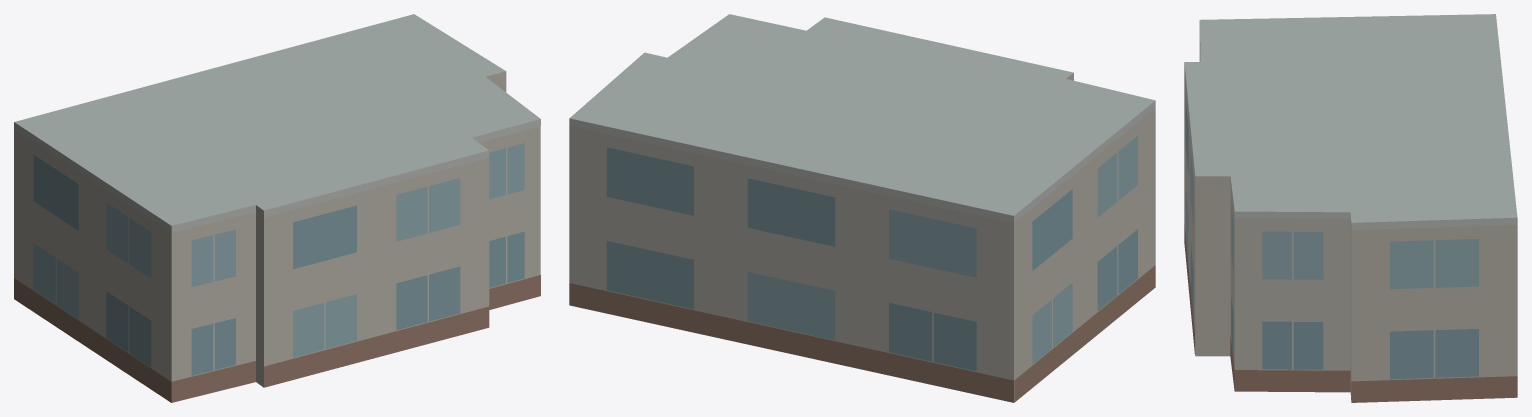
The model's file is survey-upis-32581197.glb.
3 views of the same model, side by side, from view 1: azimuth 30°, elevation 25°; view 2: azimuth 150°, elevation 25°; view 3: azimuth 270°, elevation 25° (orthographic). The views are drawn at different scales.
Parts seen in each view (by area): view 1: survey-upis-32581197.tmp; view 2: survey-upis-32581197.tmp; view 3: survey-upis-32581197.tmp.
Part boxes in pixels (bbox=[...]): survey-upis-32581197.tmp: bbox=[14, 14, 540, 402]; survey-upis-32581197.tmp: bbox=[569, 14, 1155, 402]; survey-upis-32581197.tmp: bbox=[1184, 14, 1517, 402].
Size of the model in its own units: 15.19 by 6.1 by 10.24.
